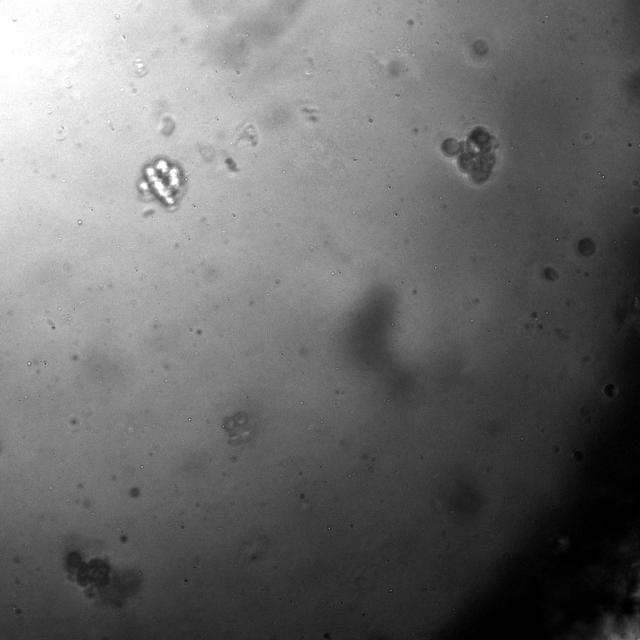organoid: (64, 549, 141, 607), (441, 125, 498, 185), (138, 156, 185, 207), (472, 39, 489, 58), (578, 238, 595, 256), (541, 266, 559, 282)
